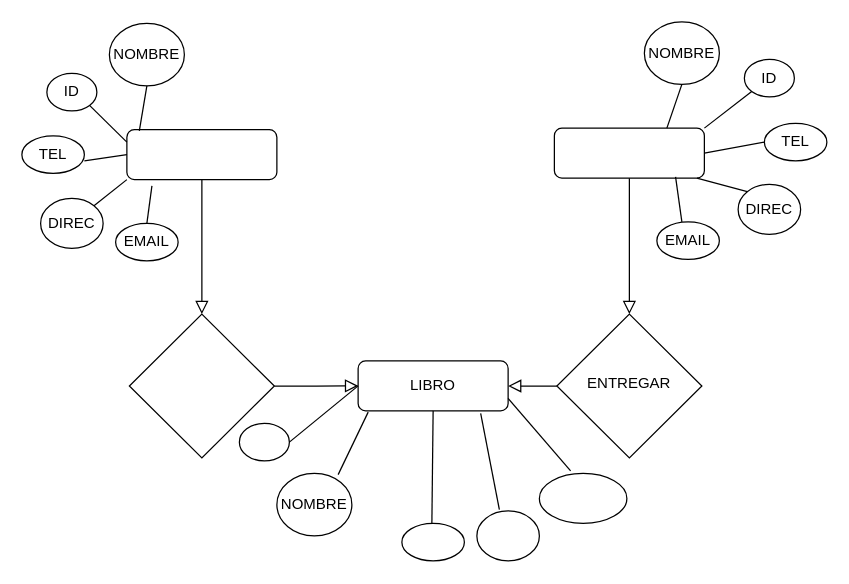
The diagram is 849 pixels wide and 584 high, and some of its shapes have lost their labels. The box of each missing label's shape, as (x1, y1, x2, y2) in pixels:
AUTOR: (401, 522, 464, 561)
BIBLIOTECARIO: (126, 128, 277, 180)
CLIENTE: (553, 127, 704, 178)
EDIT: (476, 510, 539, 561)
FECH- PUBLIC: (538, 472, 627, 523)
ISBN: (238, 422, 289, 461)
PRESTAR: (128, 313, 274, 458)
